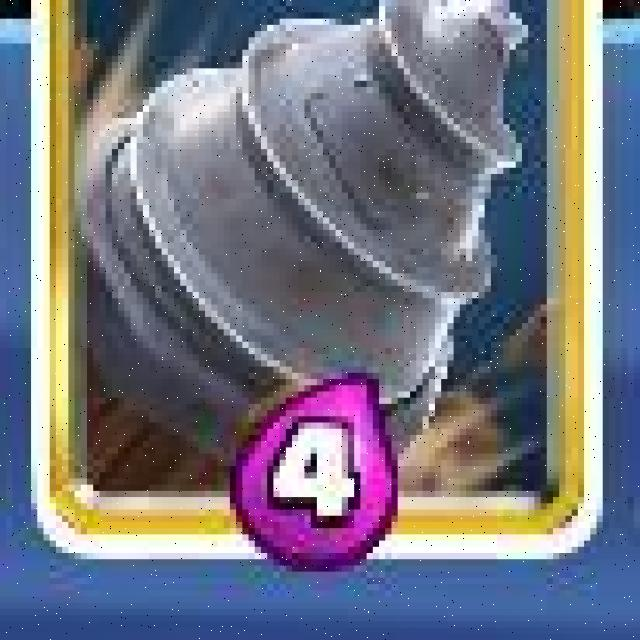Goblin_Drill: (28, 0, 604, 561)
